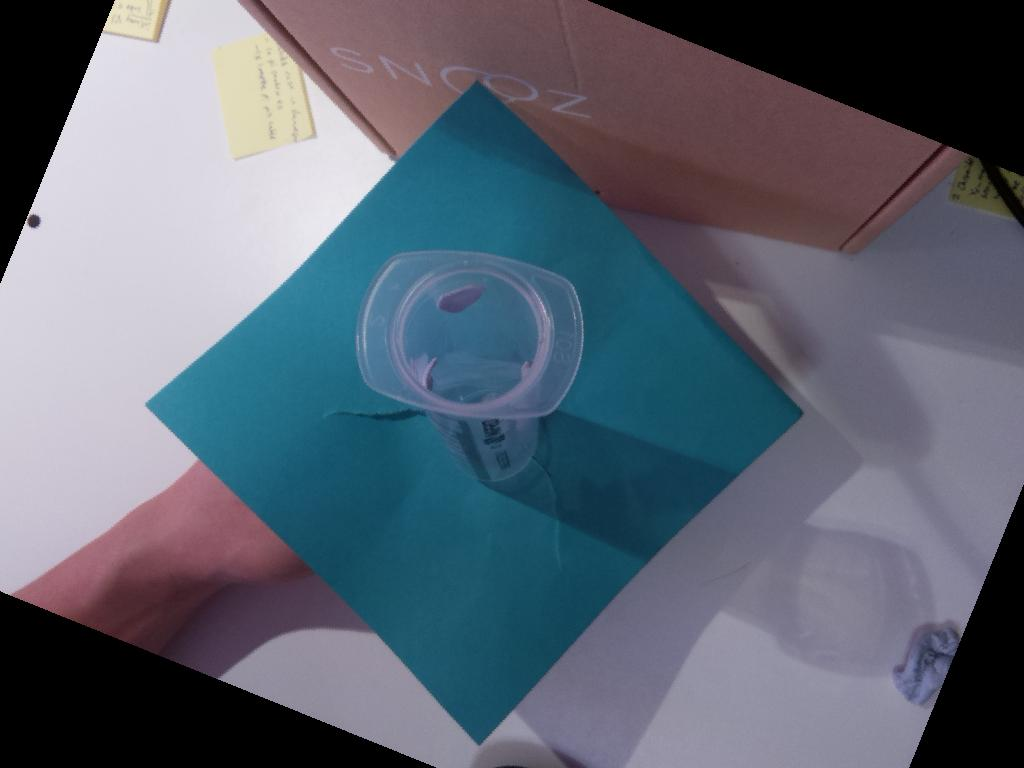dirty: (354, 249, 585, 416)
